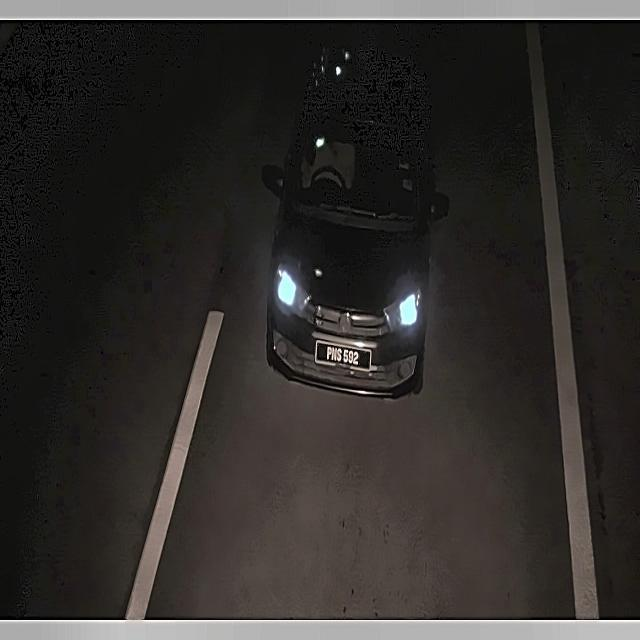car: (313, 331, 375, 380)
